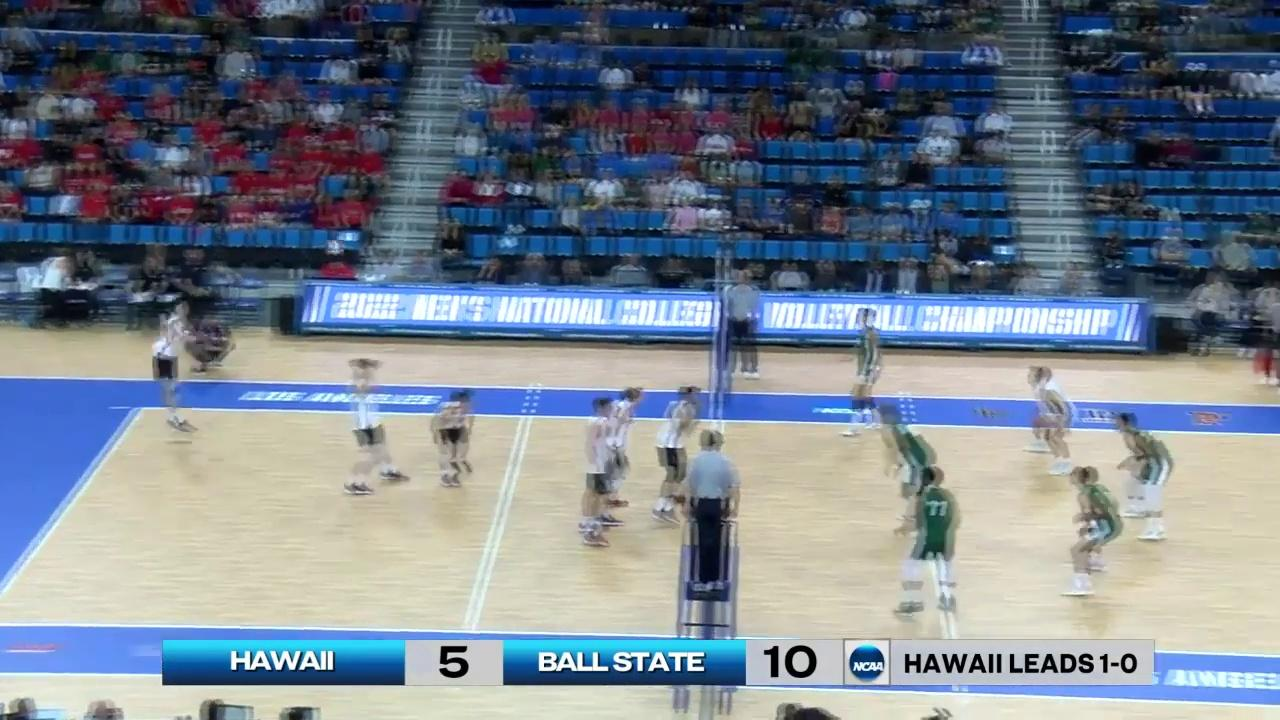player: (897, 466, 959, 621), (1112, 415, 1176, 544), (343, 358, 401, 492), (877, 408, 938, 534), (572, 394, 620, 545), (1068, 465, 1119, 602), (655, 384, 703, 522), (153, 299, 197, 436), (602, 385, 647, 514), (1024, 364, 1074, 472), (429, 389, 475, 486), (845, 317, 882, 428)
refree: (684, 431, 736, 596), (721, 269, 760, 380)
